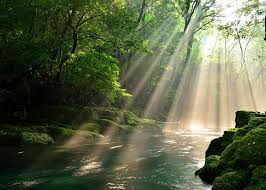forest: (1, 2, 257, 182)
mountain: (3, 4, 259, 184)
